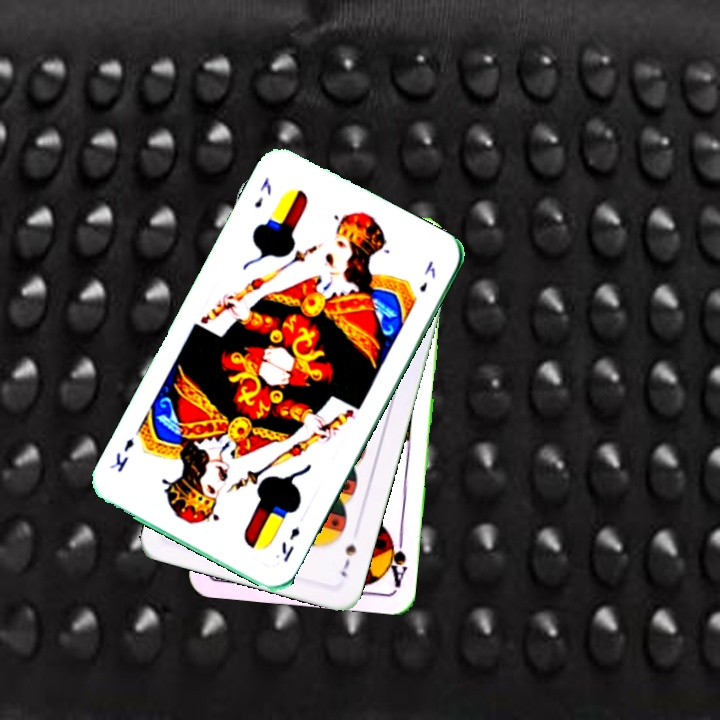EK: (277, 523, 303, 565), (250, 173, 274, 211)
S7: (336, 540, 359, 580)
SA: (382, 529, 410, 589)
